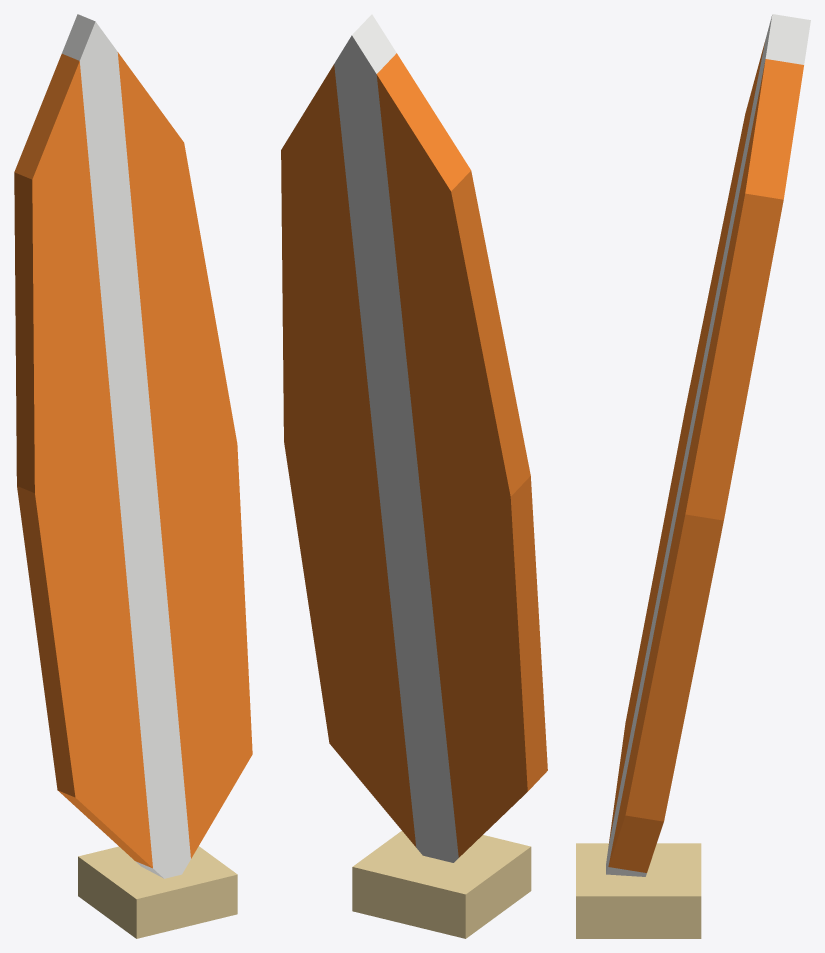
Rendered from Surfboard.fbx.
3 renders of one model, left to right at view 1: azimuth 30°, elevation 25°; view 2: azimuth 150°, elevation 25°; view 3: azimuth 270°, elevation 25°, orthographic. The views are drawn at different scales.
Parts seen in each view (by area): view 1: Surfboard; view 2: Surfboard; view 3: Surfboard.
Boxes of the visible parts, <box> form: Surfboard: <box>14,14,252,938</box>; Surfboard: <box>281,14,547,938</box>; Surfboard: <box>576,14,810,938</box>.
Bounding box in the file's own units: 1.6 × 6.33 × 1.5.
Materials: 1 (1 with a texture image).
